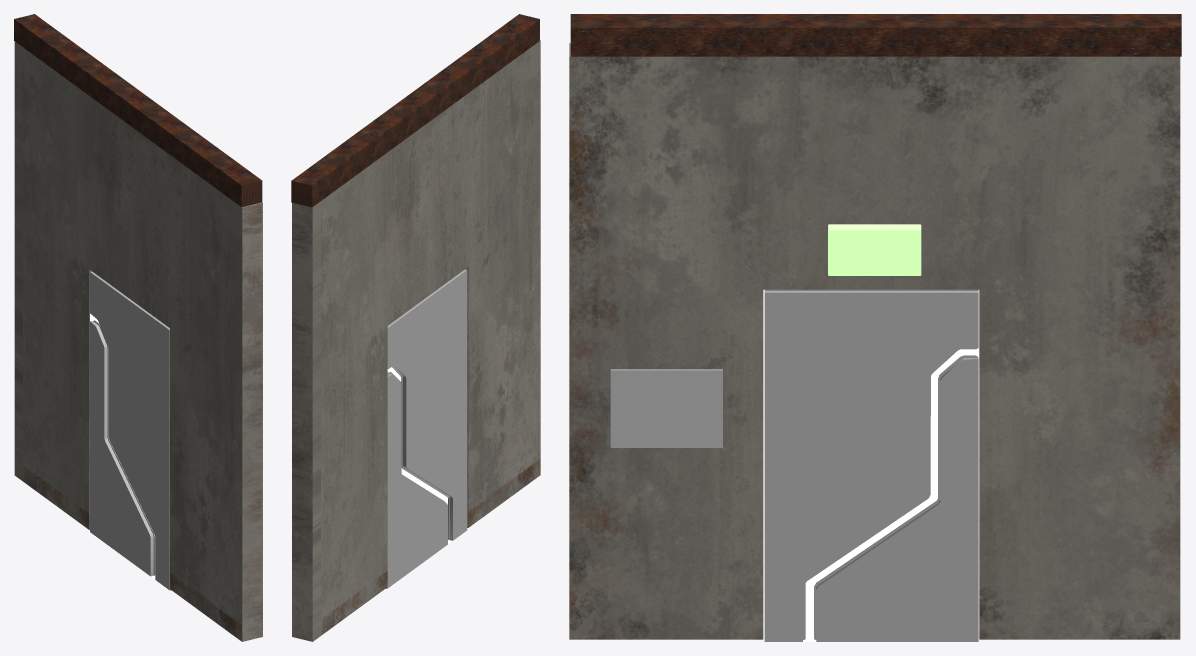
Rendered from Doorway.fbx.
3 renders of one model, left to right at view 1: azimuth 30°, elevation 25°; view 2: azimuth 150°, elevation 25°; view 3: azimuth 270°, elevation 25°, orthographic. The views are drawn at different scales.
Visible parts, largest first — view 1: Doorway, Door, Doorway Beam; view 2: Doorway, Door, Doorway Beam; view 3: Doorway, Door, Doorway Beam, Sign, Exit Sign.
Boxes of the visible parts, x1,y1,x2,y2 form: Doorway: (14,41,262,641); Door: (90,271,171,590); Doorway Beam: (14,14,262,207); Doorway: (292,40,540,641); Door: (385,269,467,588); Doorway Beam: (291,14,539,207); Doorway: (569,43,1180,639); Door: (764,289,978,641); Doorway Beam: (570,14,1181,56); Sign: (610,369,722,447); Exit Sign: (828,224,921,275).
Size of the model in its own units: 0.3015 by 3.81 by 4.23.
